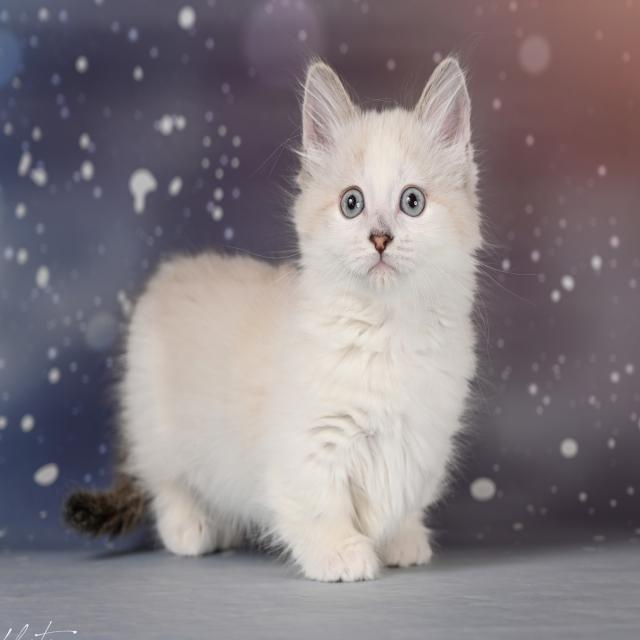Munchkin: (57, 44, 489, 590)
